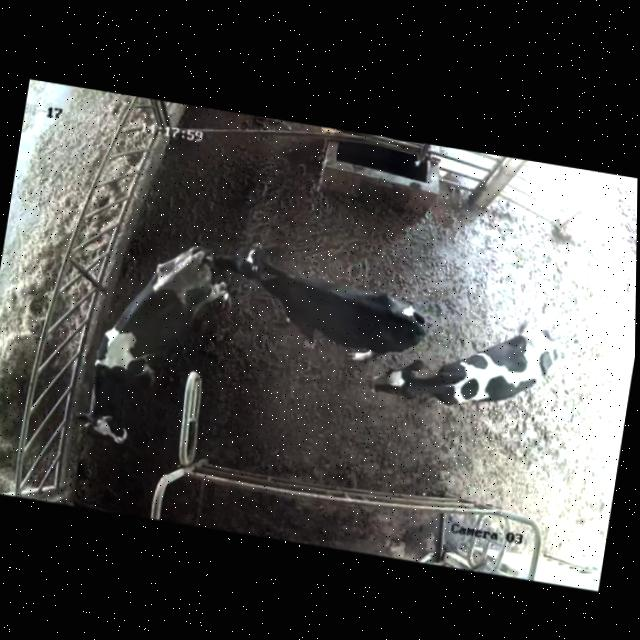stand: (66, 229, 238, 465), (202, 218, 440, 377), (360, 297, 572, 443)
